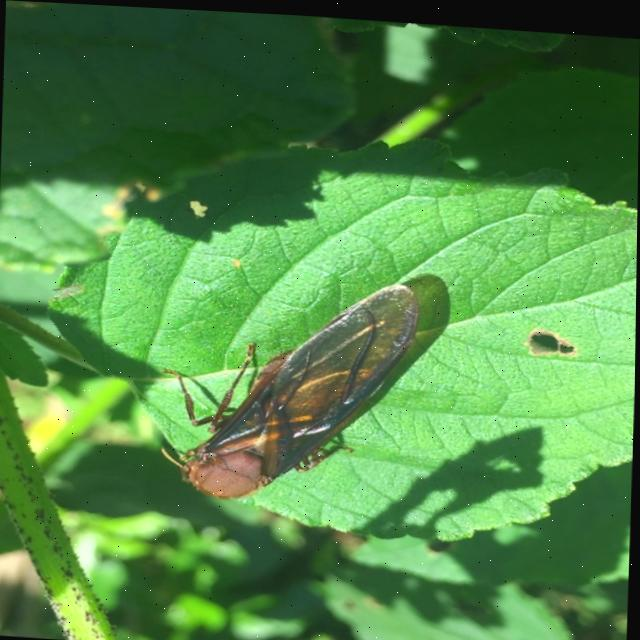Alive-Female-Alate: (158, 265, 421, 507)
